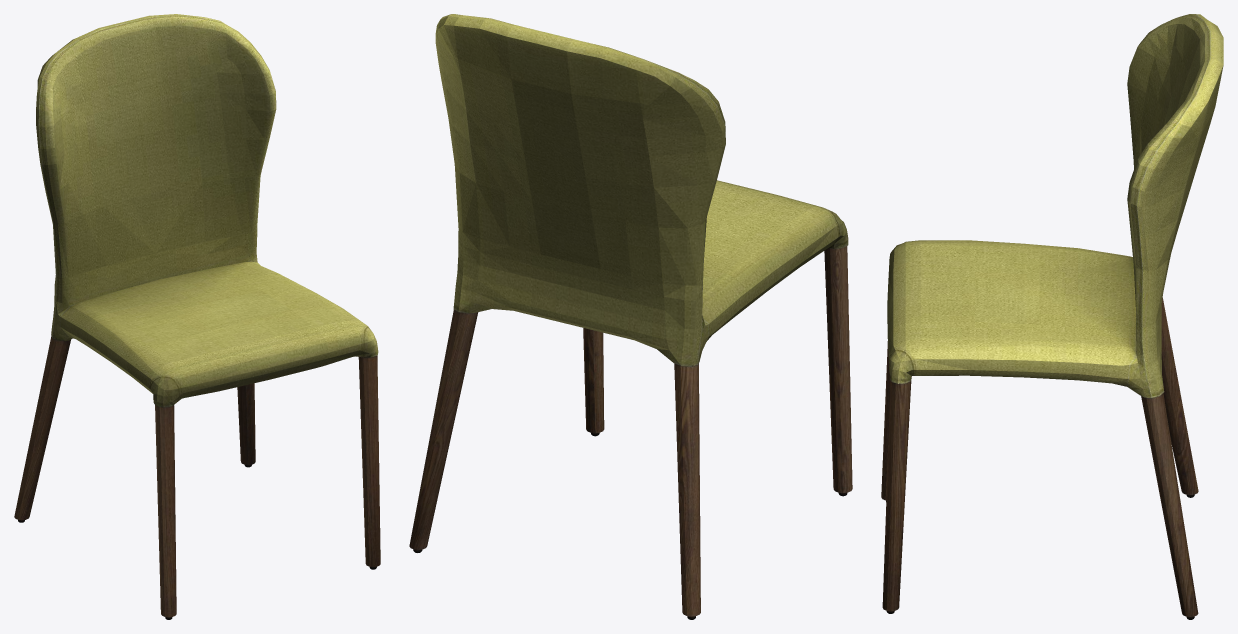
The picture shows the model from 3 angles, left to right: view 1: azimuth 30°, elevation 25°; view 2: azimuth 150°, elevation 25°; view 3: azimuth 270°, elevation 25°; orthographic projection. The views are drawn at different scales.
Visible parts, largest first — view 1: world; view 2: world; view 3: world.
Boxes of the visible parts, x1,y1,x2,y2 form: world: (14, 14, 380, 619); world: (409, 14, 852, 619); world: (881, 14, 1223, 619).
Size of the model in its own units: 0.539 by 1 by 0.6055.
1 material, 1 textured.
